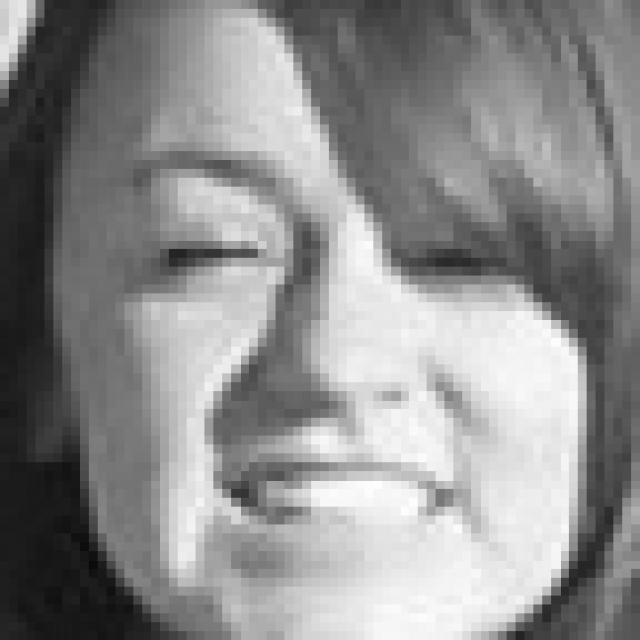real: (72, 13, 588, 621), (109, 198, 588, 305)
